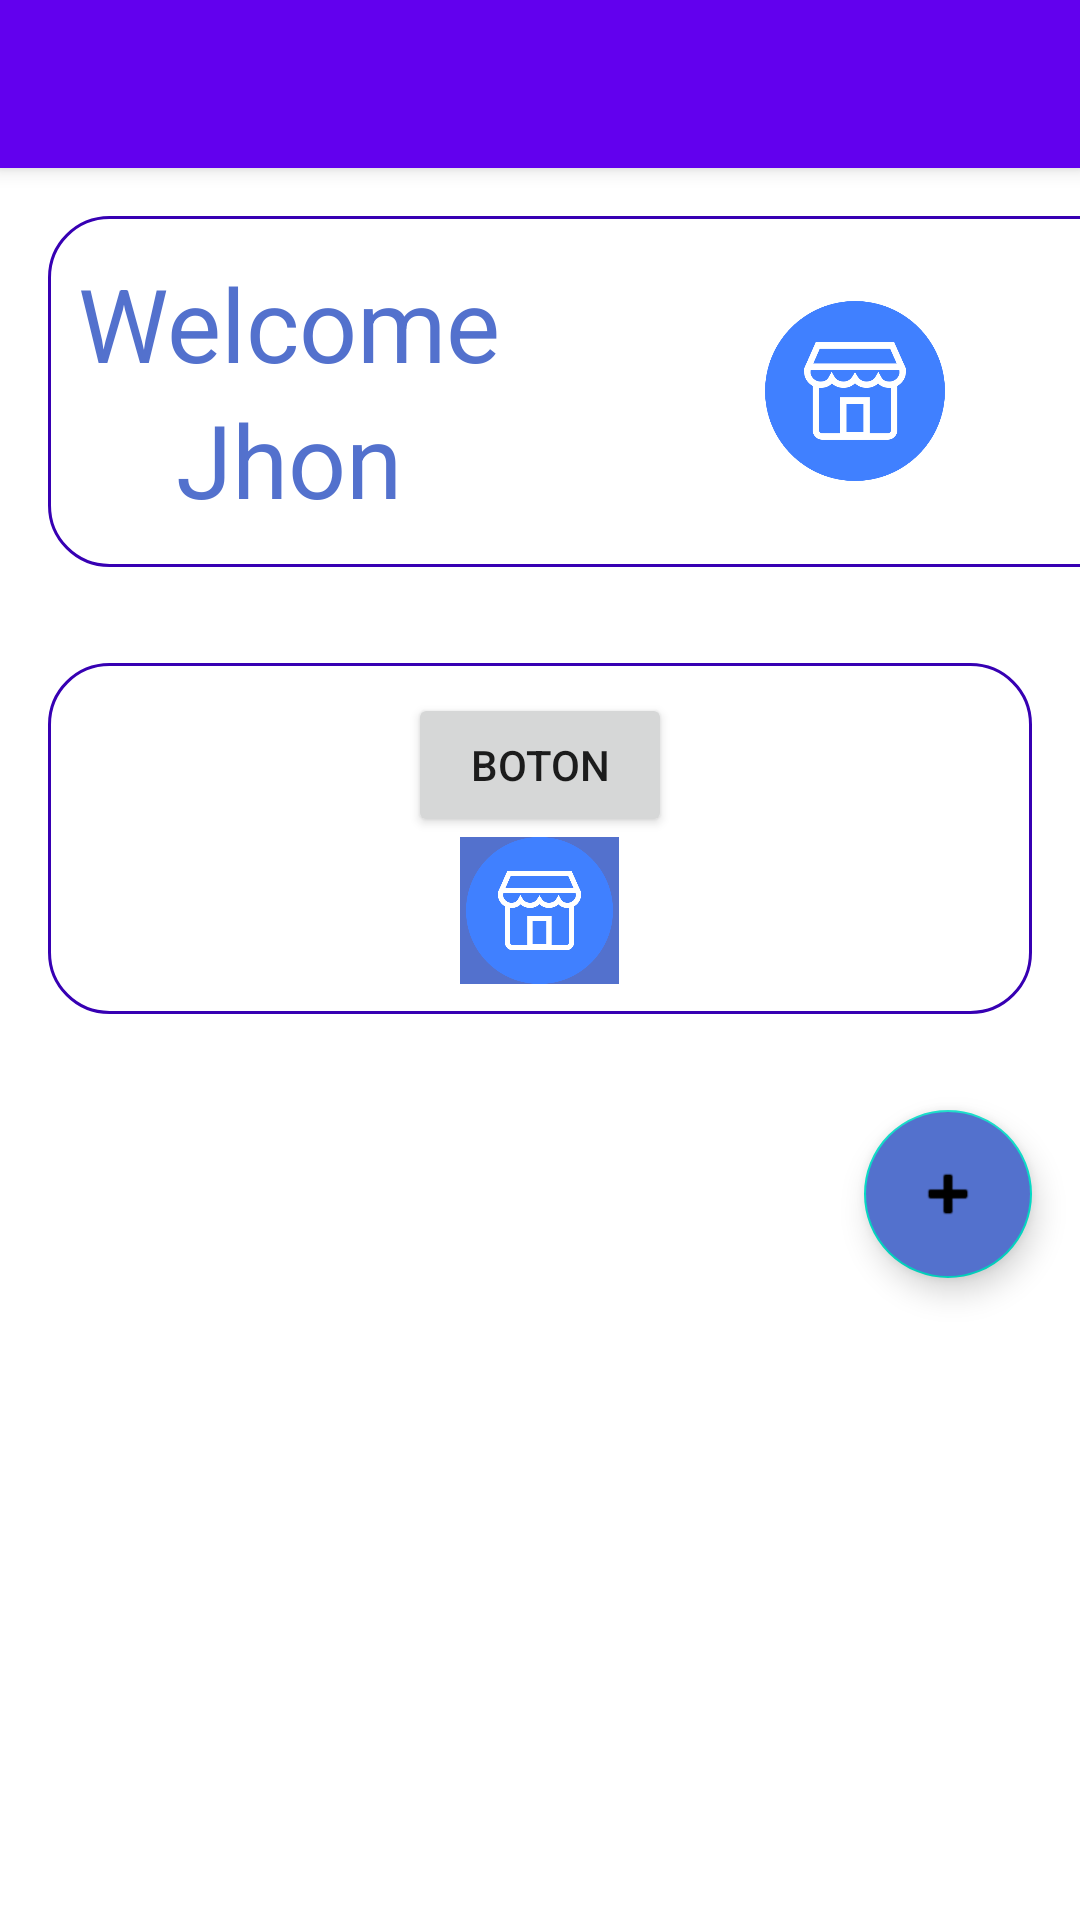

Point at icon controls on the screen. Image size 1080*1920, points as (x,y).
add: (948,1194)
